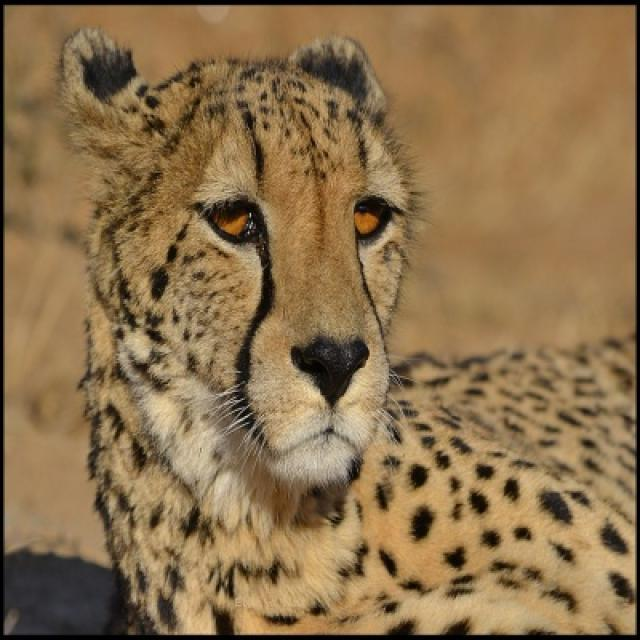Cheetah: (59, 29, 632, 632)
